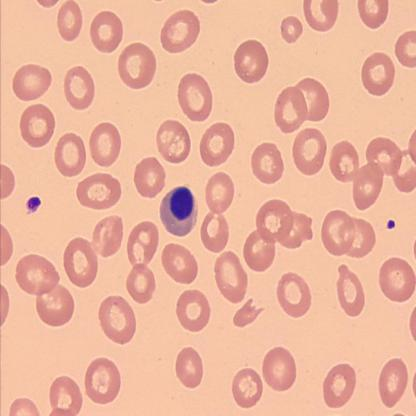NRC: (158, 184, 200, 240)
